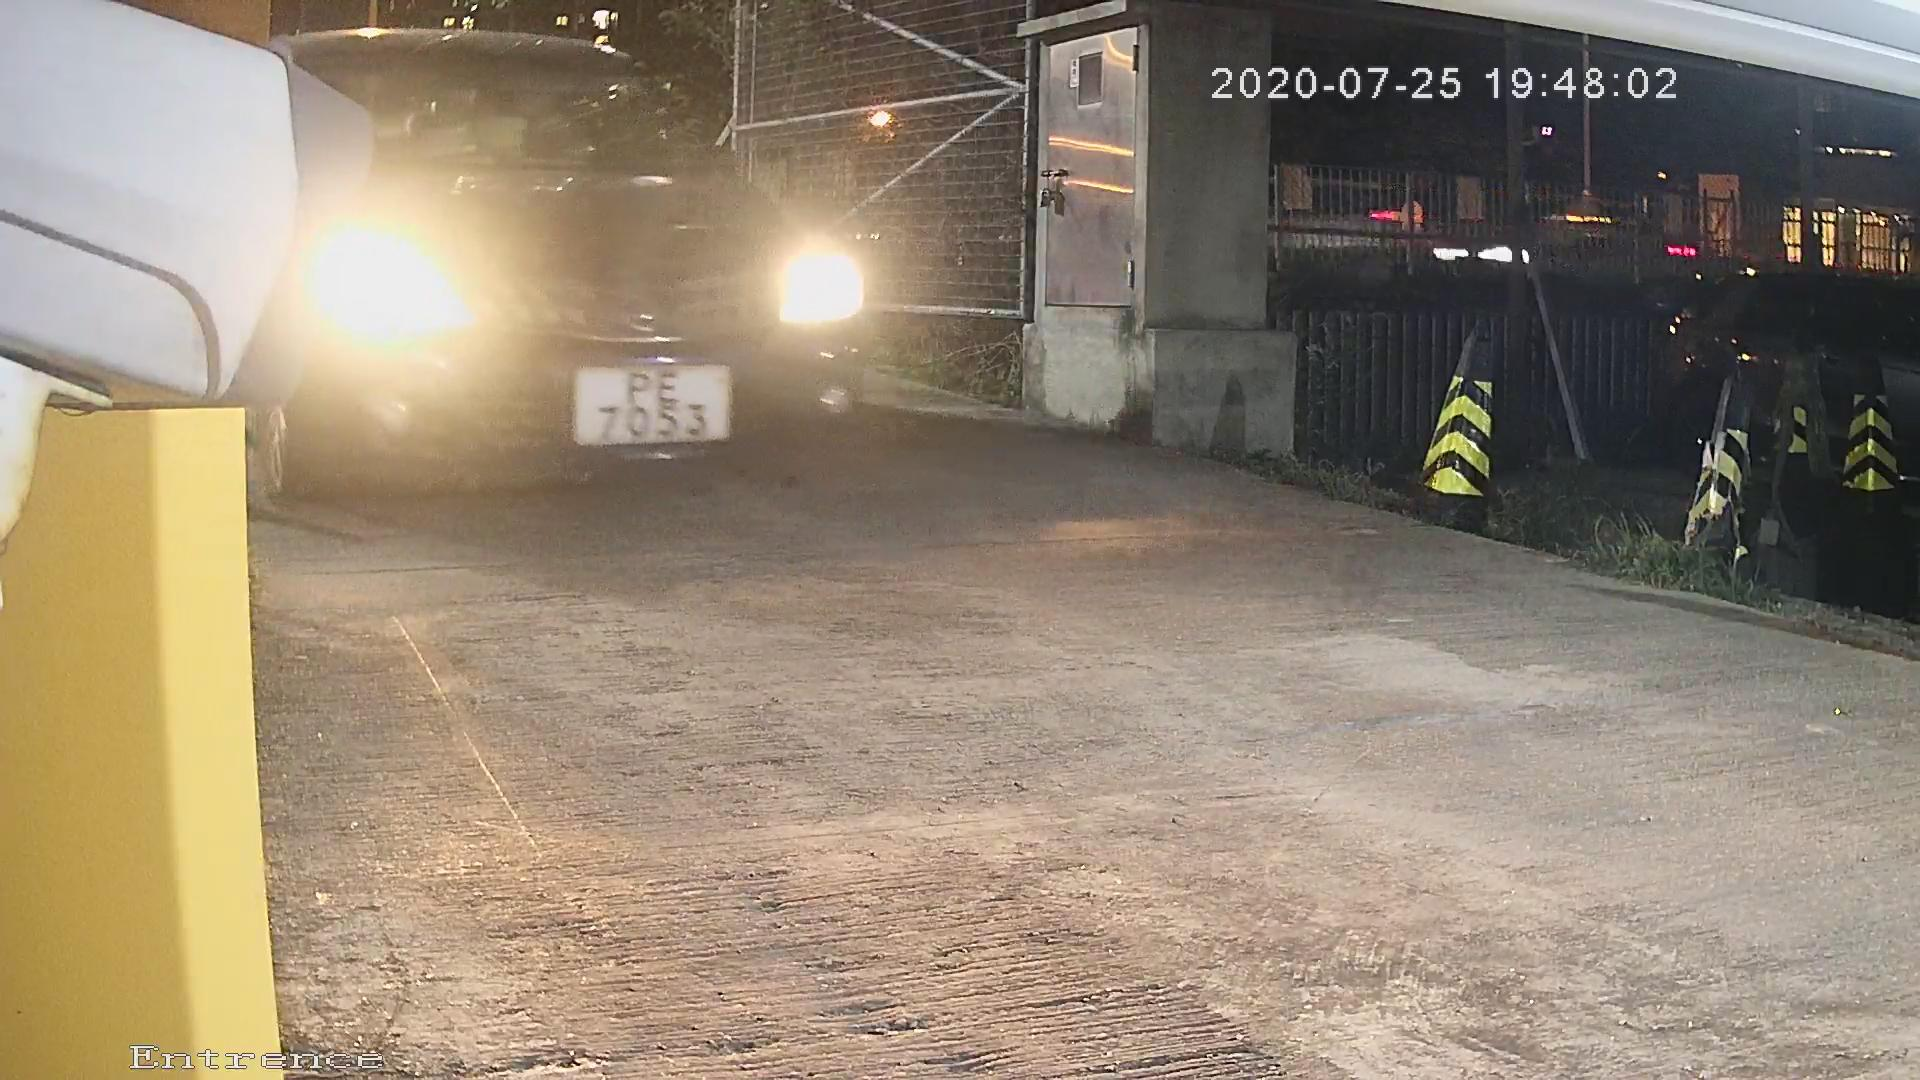License Plate: (543, 348, 749, 459)
